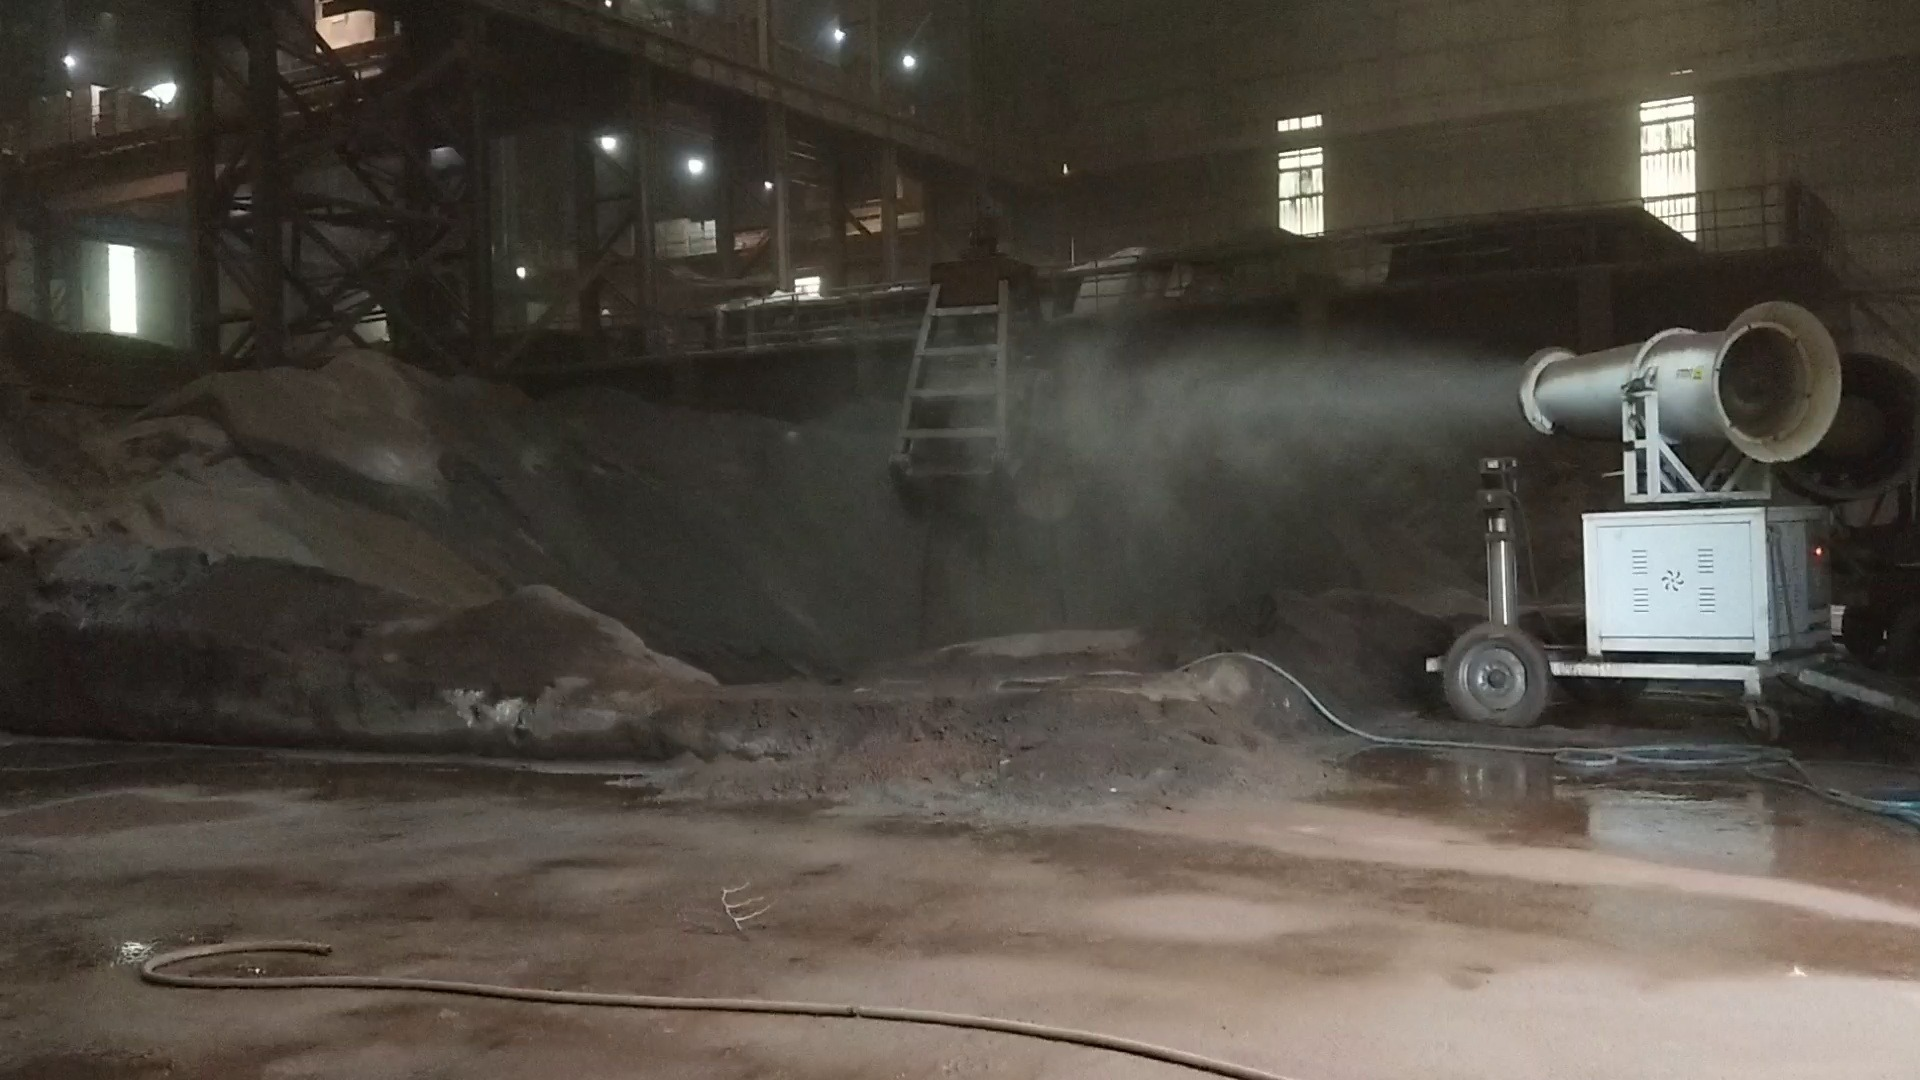dust: (1043, 320, 1507, 500)
grab: (873, 196, 1056, 531)
